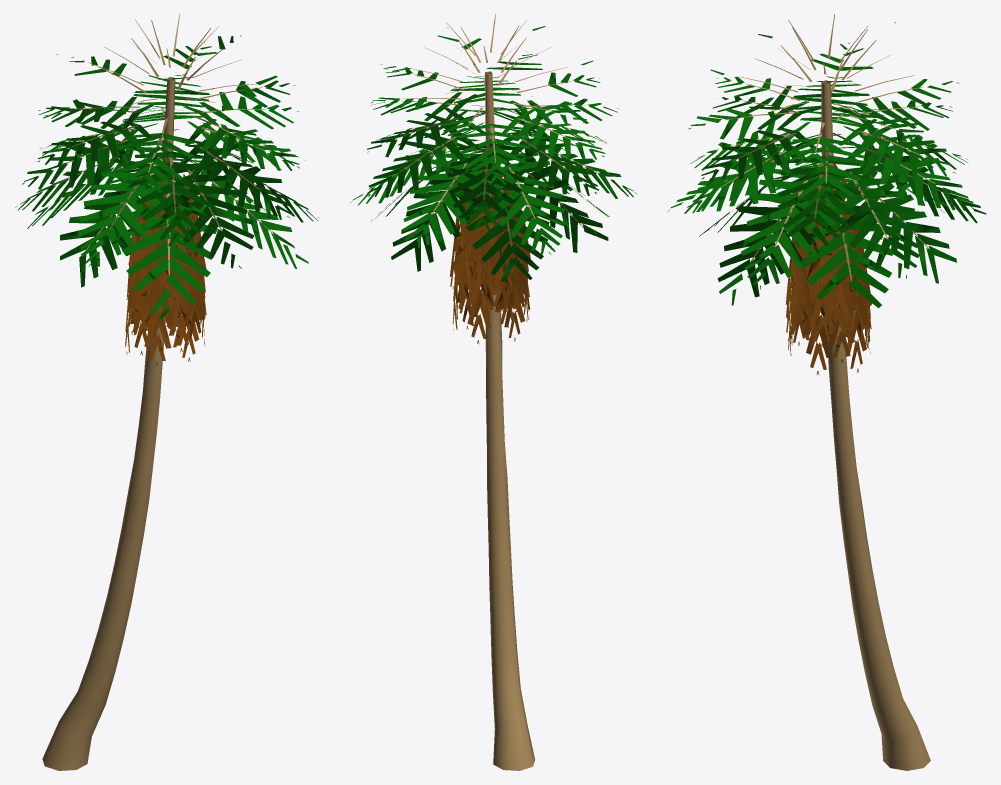
The model's file is Tree_01.fbx.
3 views of the same model, side by side, from view 1: azimuth 30°, elevation 25°; view 2: azimuth 150°, elevation 25°; view 3: azimuth 270°, elevation 25° (orthographic). The views are drawn at different scales.
Parts seen in each view (by area): view 1: Foliage002; view 2: Foliage002; view 3: Foliage002.
Boxes of the visible parts, <box> form: Foliage002: <box>15,14,319,770</box>; Foliage002: <box>350,14,637,770</box>; Foliage002: <box>667,14,986,770</box>.
Size of the model in its own units: 151 by 157 by 412.
